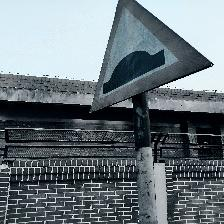Speed-breaker: (88, 0, 214, 113)
